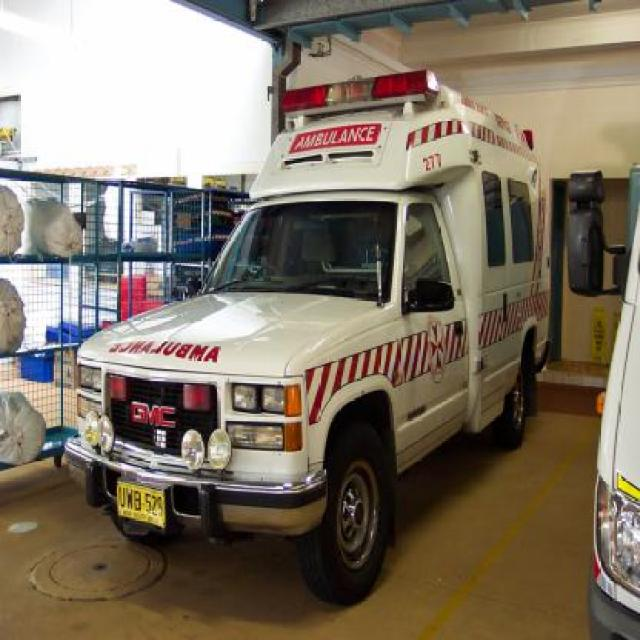truck: (62, 67, 552, 601)
